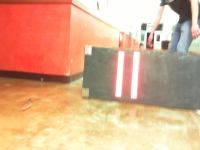switch: (114, 51, 126, 98), (130, 51, 141, 99)
